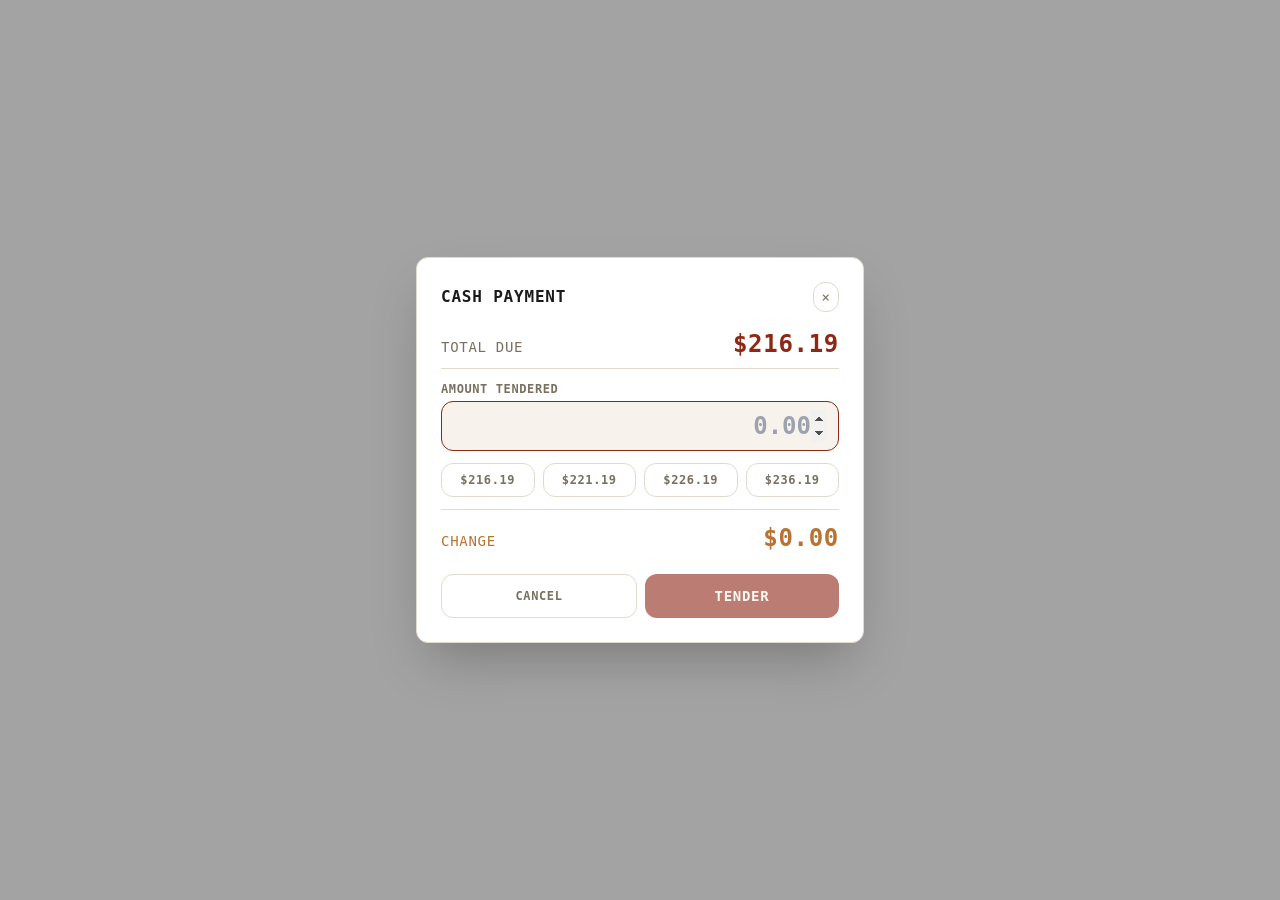
<CashTenderModal> › preset buttons populate the tendered input with helpful round amounts
The image size is (1280, 900).
Click the button "$216.19" at x=488, y=480, box [441,463,534,497]
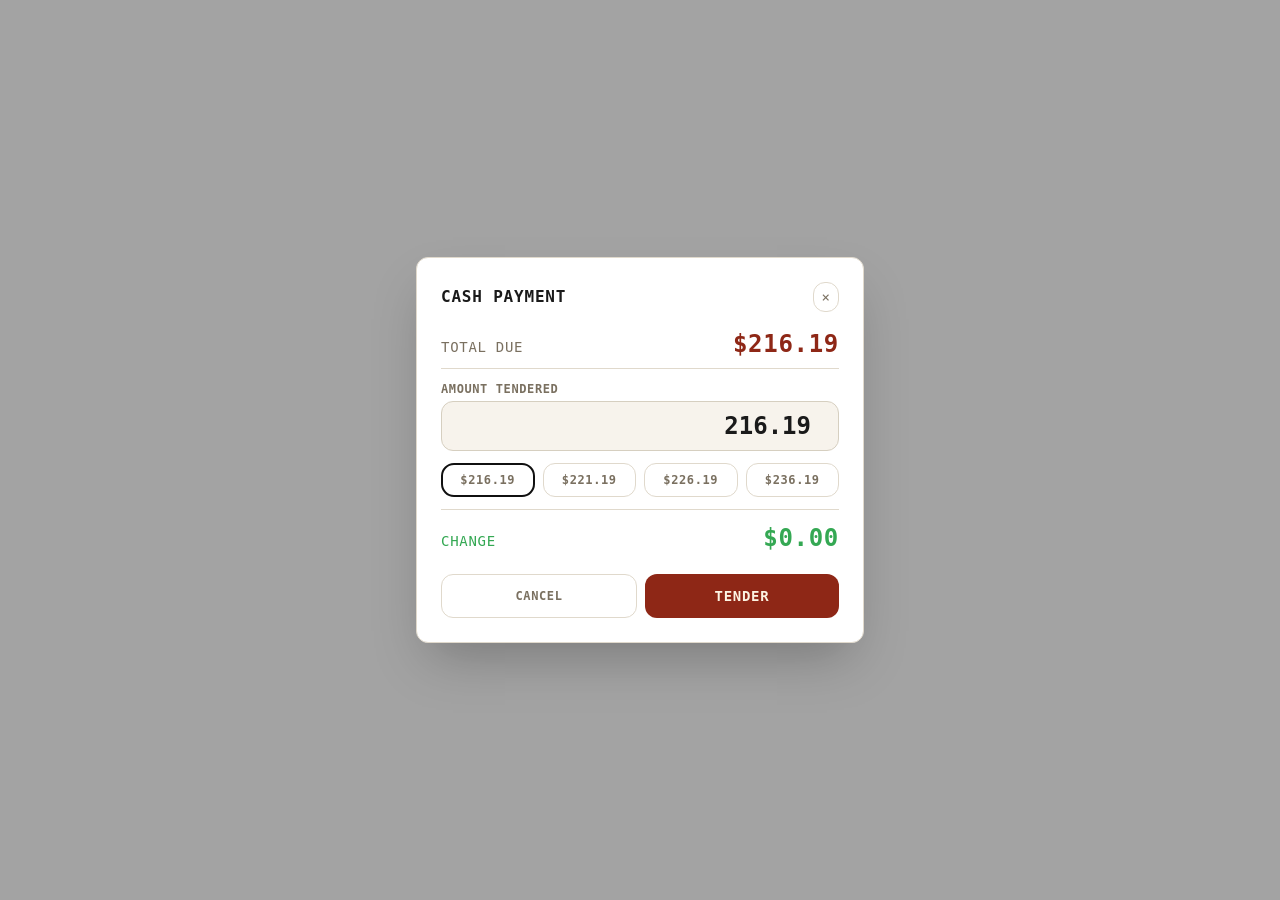
Expected: the number field labelled "Amount tendered" holds "216.19", [441,401,839,451]
